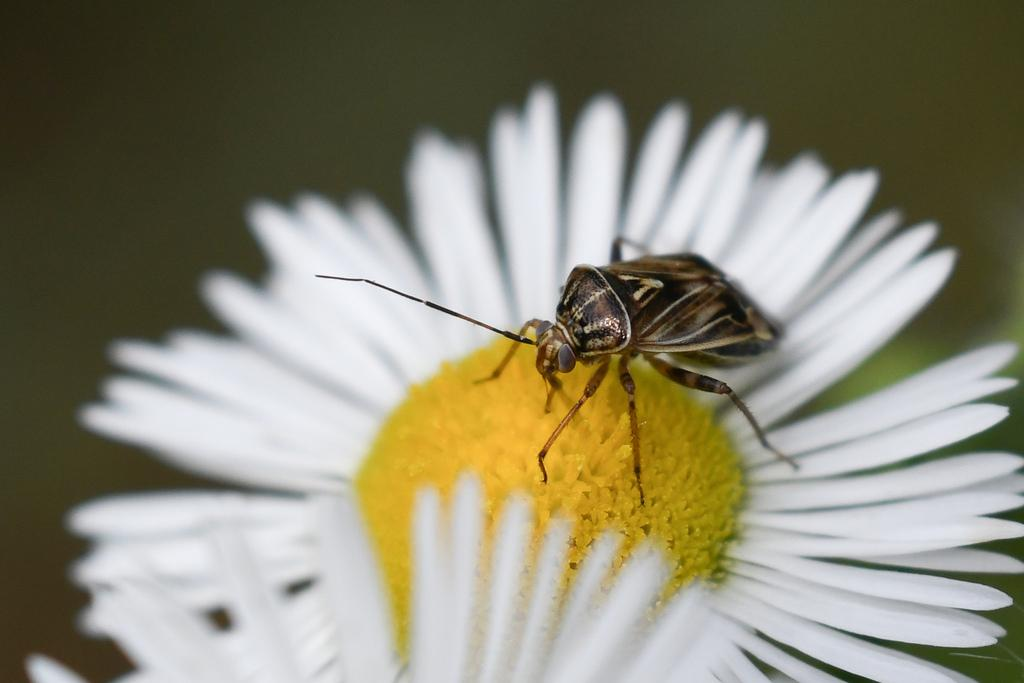plant_bugs: (284, 161, 851, 538)
